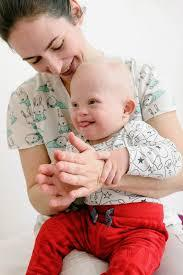Persons: (3, 0, 89, 93), (65, 60, 146, 143)
